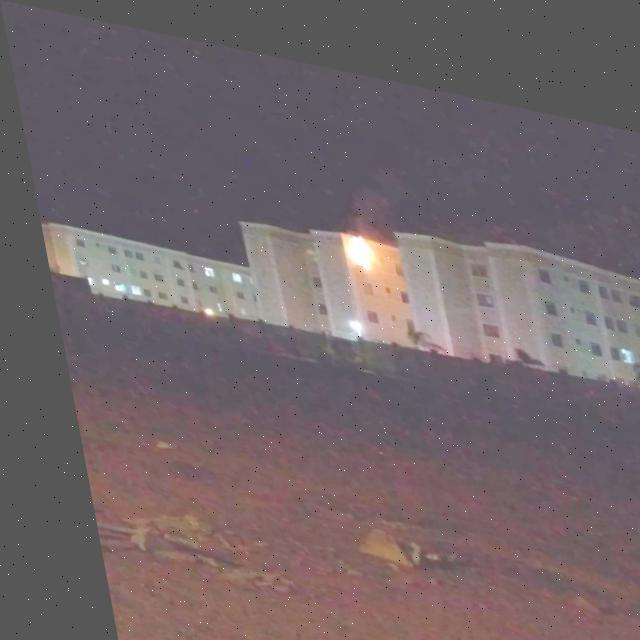Fire: (337, 218, 375, 262)
